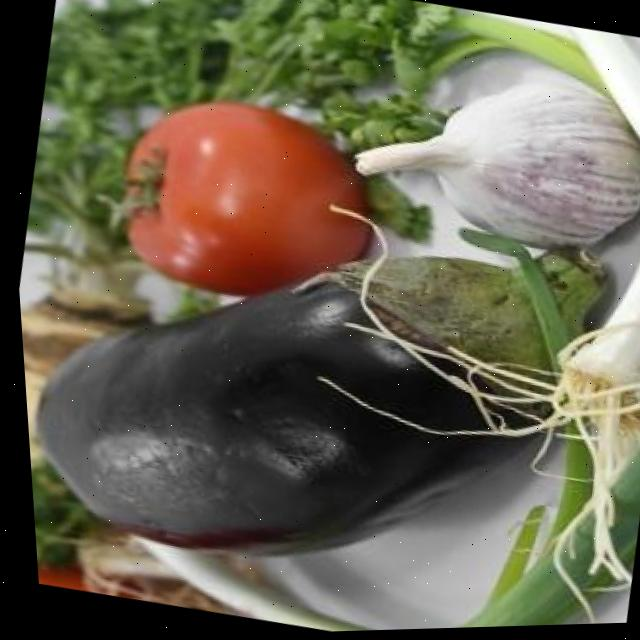Wet: (9, 160, 631, 626), (79, 72, 390, 321), (336, 47, 640, 270)
